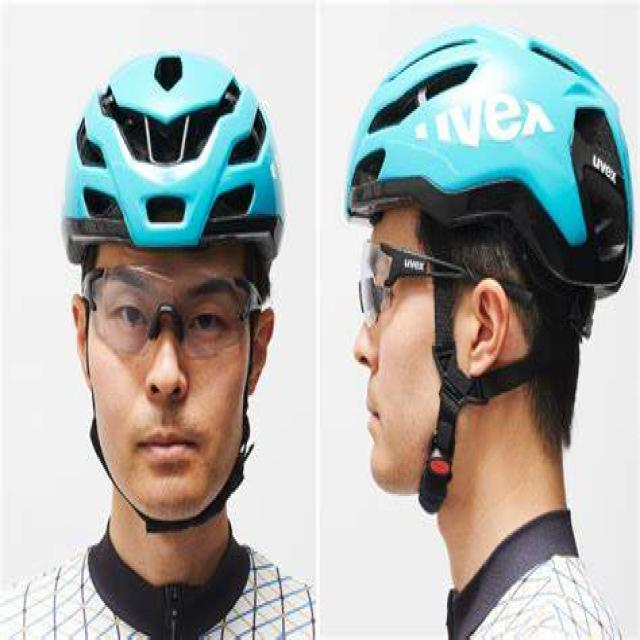illegal_helmet: (339, 18, 636, 522), (59, 39, 288, 542)
